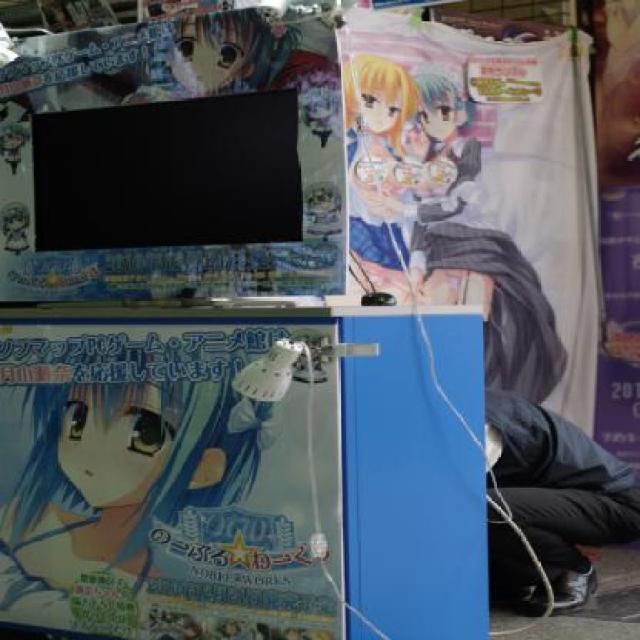Person: (408, 64, 582, 407), (23, 319, 212, 607), (480, 383, 638, 614), (113, 5, 295, 112), (336, 48, 410, 264), (299, 175, 344, 248), (0, 199, 48, 259), (299, 86, 341, 151), (0, 114, 32, 174)
